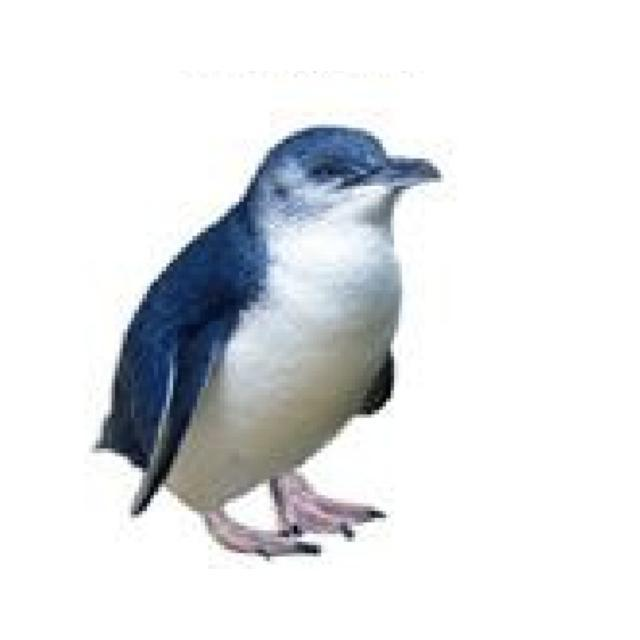penguin: (91, 124, 442, 561)
